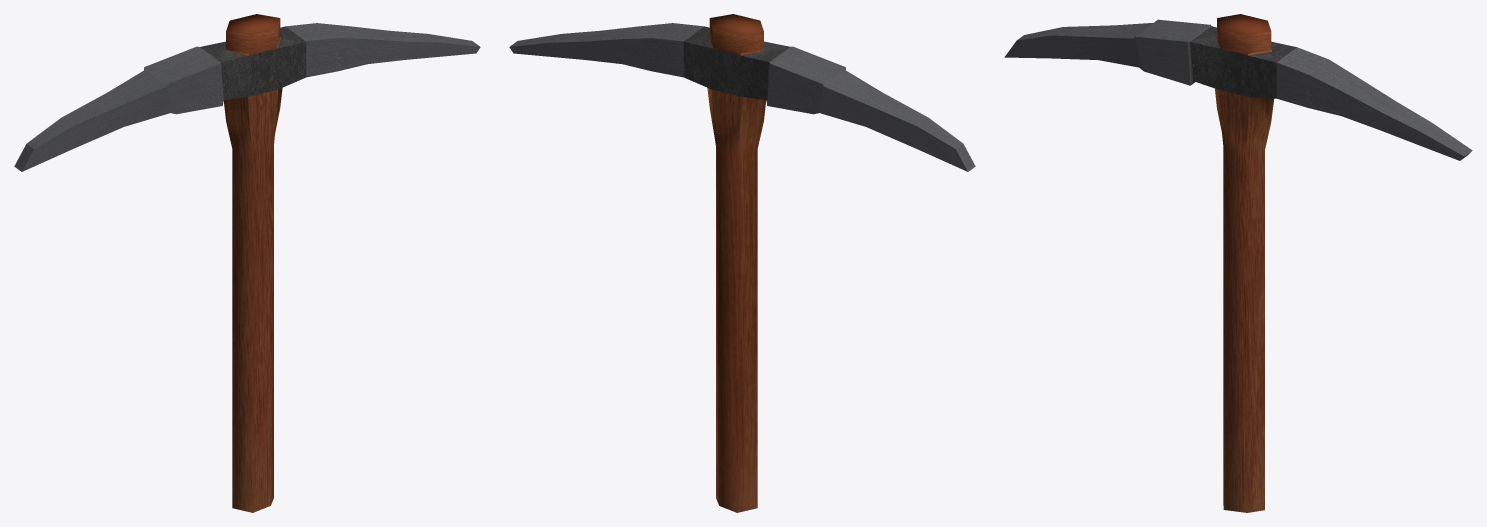
The model's file is Pickaxe.fbx.
3 renders of one model, left to right at view 1: azimuth 30°, elevation 25°; view 2: azimuth 150°, elevation 25°; view 3: azimuth 330°, elevation 25°, orthographic.
Parts seen in each view (by area): view 1: polySurface1; view 2: polySurface1; view 3: polySurface1.
Part boxes in pixels (x1=…): polySurface1: x1=14, y1=14, x2=480, y2=512; polySurface1: x1=509, y1=14, x2=975, y2=512; polySurface1: x1=1004, y1=14, x2=1472, y2=512.
Bounding box in the file's own units: 39.29 × 39.18 × 3.44.
Materials: 1 (1 with a texture image).
